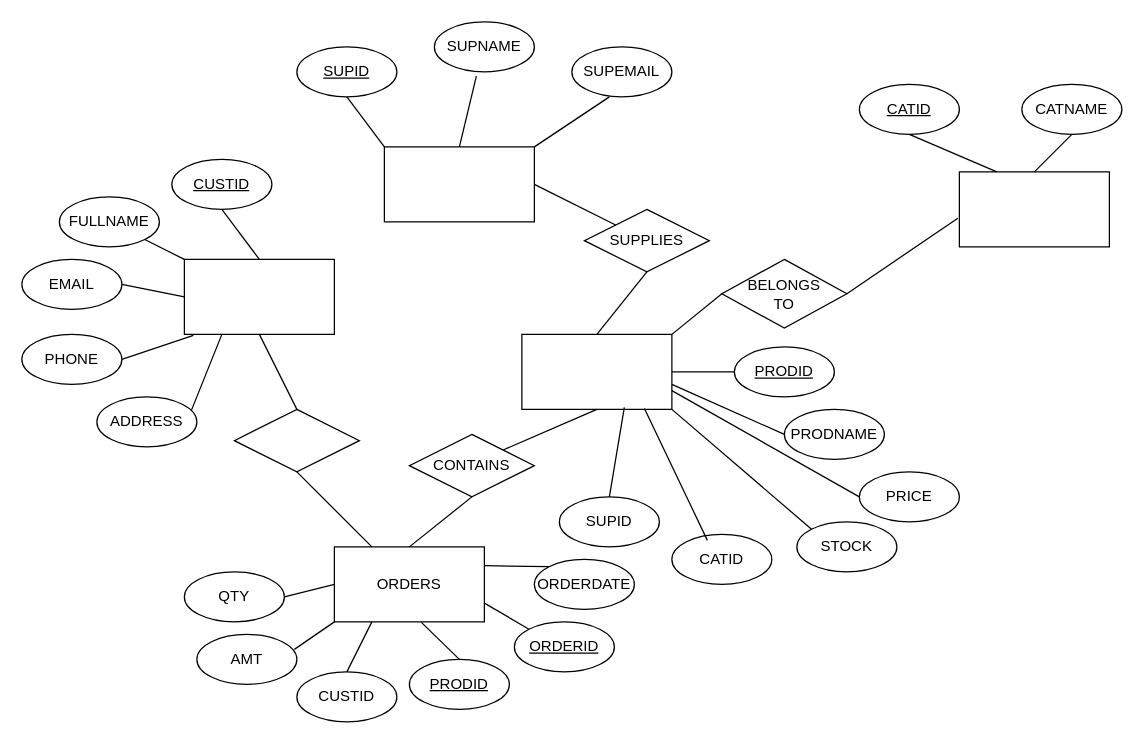
This 1144x744 diagram has some shape labels left out. The centre of each missing label's shape, as x and y in pixels:
"CATEGORY" belongs at (x=1033, y=209).
"CUSTOMER" belongs at (x=258, y=296).
"PLACES" belongs at (x=296, y=440).
"PRODUCT" belongs at (x=596, y=371).
"SUPPLIER" belongs at (x=458, y=184).
